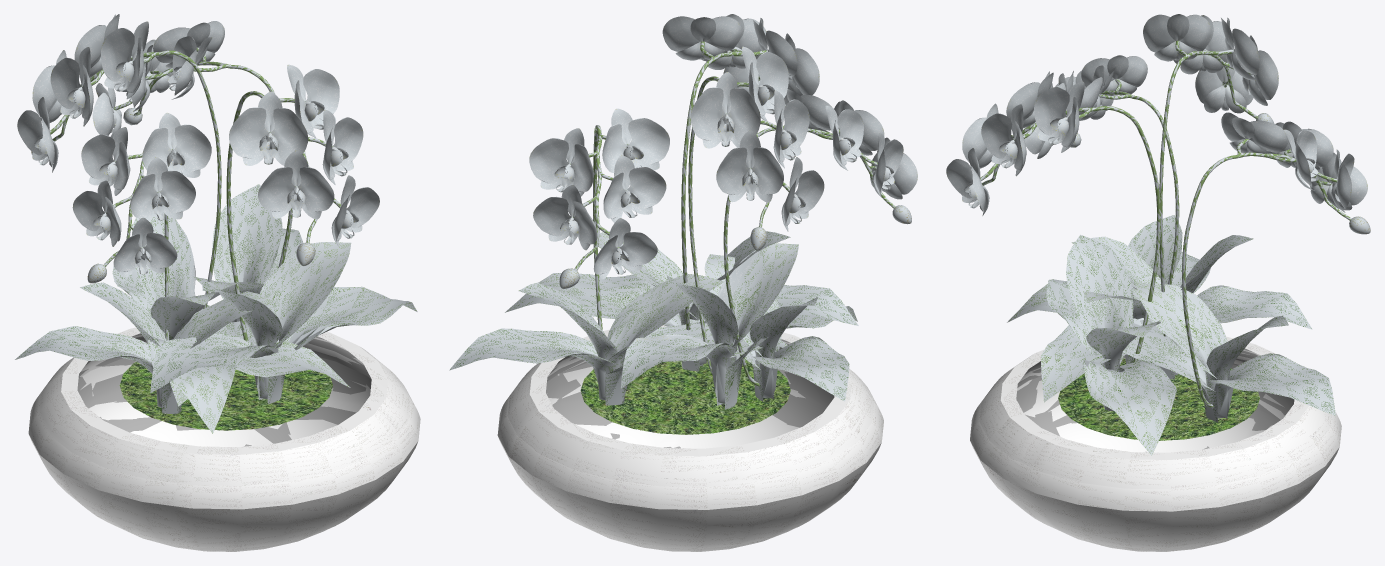
Rendered from flores-blancas.glb.
The picture shows the model from 3 angles, left to right: view 1: azimuth 30°, elevation 25°; view 2: azimuth 150°, elevation 25°; view 3: azimuth 270°, elevation 25°; orthographic projection. The views are drawn at different scales.
Visible parts, largest first — view 1: SketchUp.022, SketchUp.001, SketchUp, SketchUp.017, SketchUp.002, SketchUp.021; view 2: SketchUp.022, SketchUp.001, SketchUp.017, SketchUp, SketchUp.002, SketchUp.021; view 3: SketchUp.022, SketchUp.001, SketchUp, SketchUp.017, SketchUp.021, SketchUp.002.
Part boxes in pixels (x1,y1,x2,y2): SketchUp.022: (15,14,417,433); SketchUp.001: (28,327,420,551); SketchUp: (49,48,386,446); SketchUp.017: (119,362,332,430); SketchUp.002: (77,333,371,446); SketchUp.021: (50,48,341,340); SketchUp.022: (449,14,917,409); SketchUp.001: (497,325,883,551); SketchUp.017: (580,359,790,434); SketchUp: (547,42,895,448); SketchUp.002: (546,339,834,448); SketchUp.021: (570,41,895,386); SketchUp.022: (946,14,1370,455); SketchUp.001: (970,336,1341,551); SketchUp: (980,41,1351,452); SketchUp.017: (1058,358,1259,440); SketchUp.021: (980,40,1351,407); SketchUp.002: (1016,348,1294,452).
Size of the model in its own units: 0.5889 by 0.7792 by 0.6108.
Materials: 8 (4 with a texture image).
